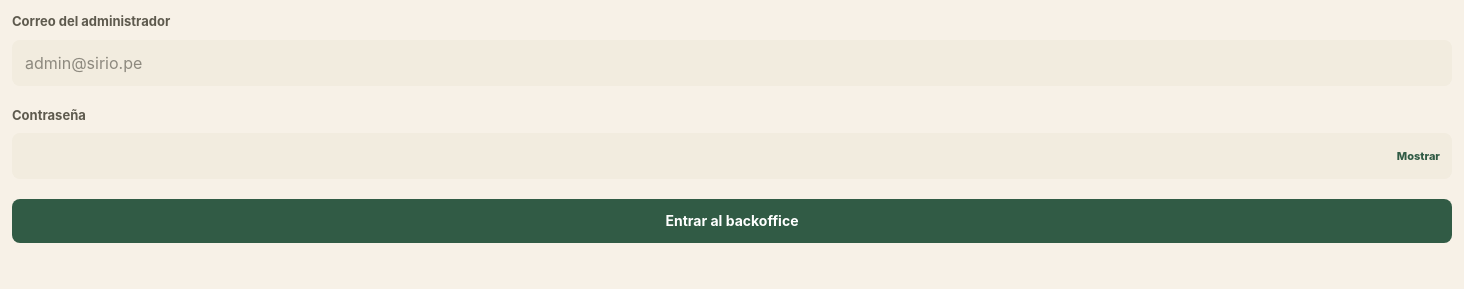
Test: LoginForm › avisa al volver al correo si la contraseña no tiene mayúscula, minúscula y número
Type "solominusculas" into the password field labelled "Contraseña" at (732,156), box x1=12 y1=133 x2=1452 y2=179
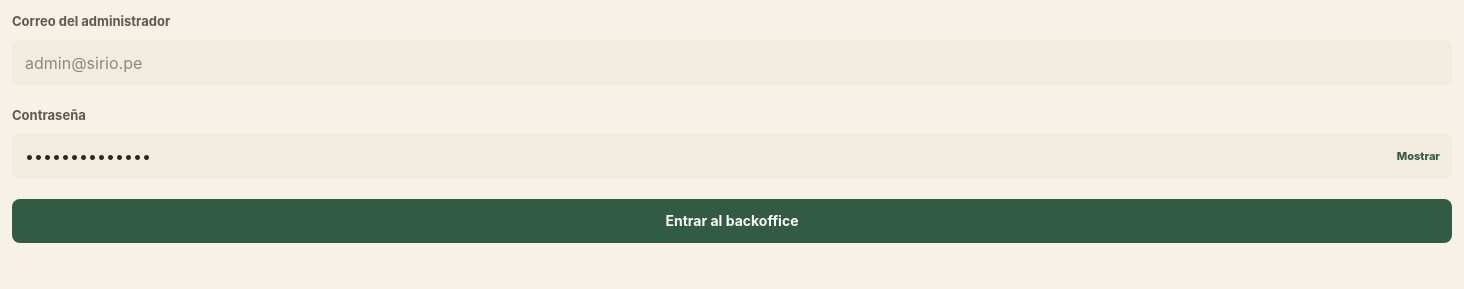
Leave the password field labelled "Contraseña", box x1=12 y1=133 x2=1452 y2=179
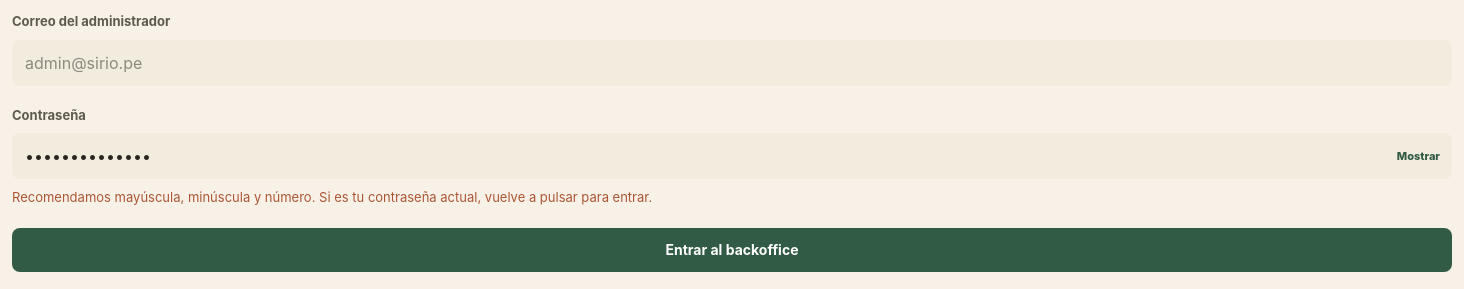
expect the message shows "Recomendamos mayúscula, minúscula y número.": met, box x1=12 y1=189 x2=652 y2=205
Type "AdminPass-1" into the password field labelled "Contraseña" at (732,156), box x1=12 y1=133 x2=1452 y2=179
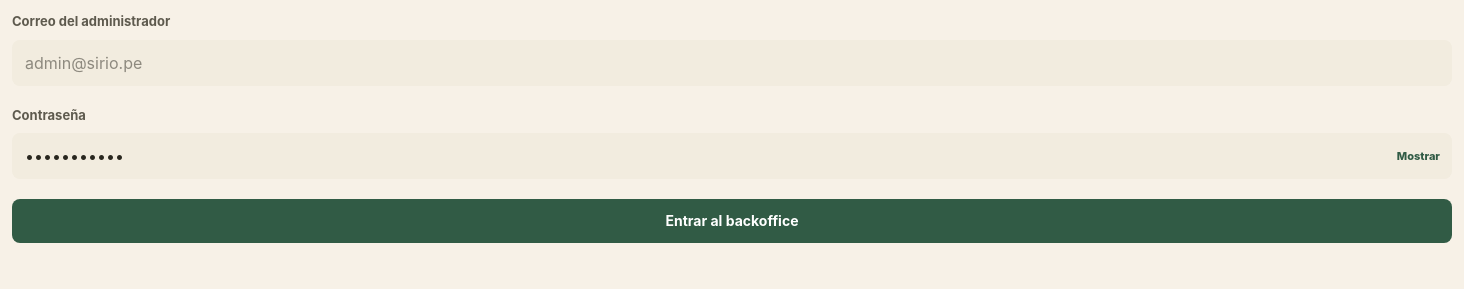
expect the message is gone: met
